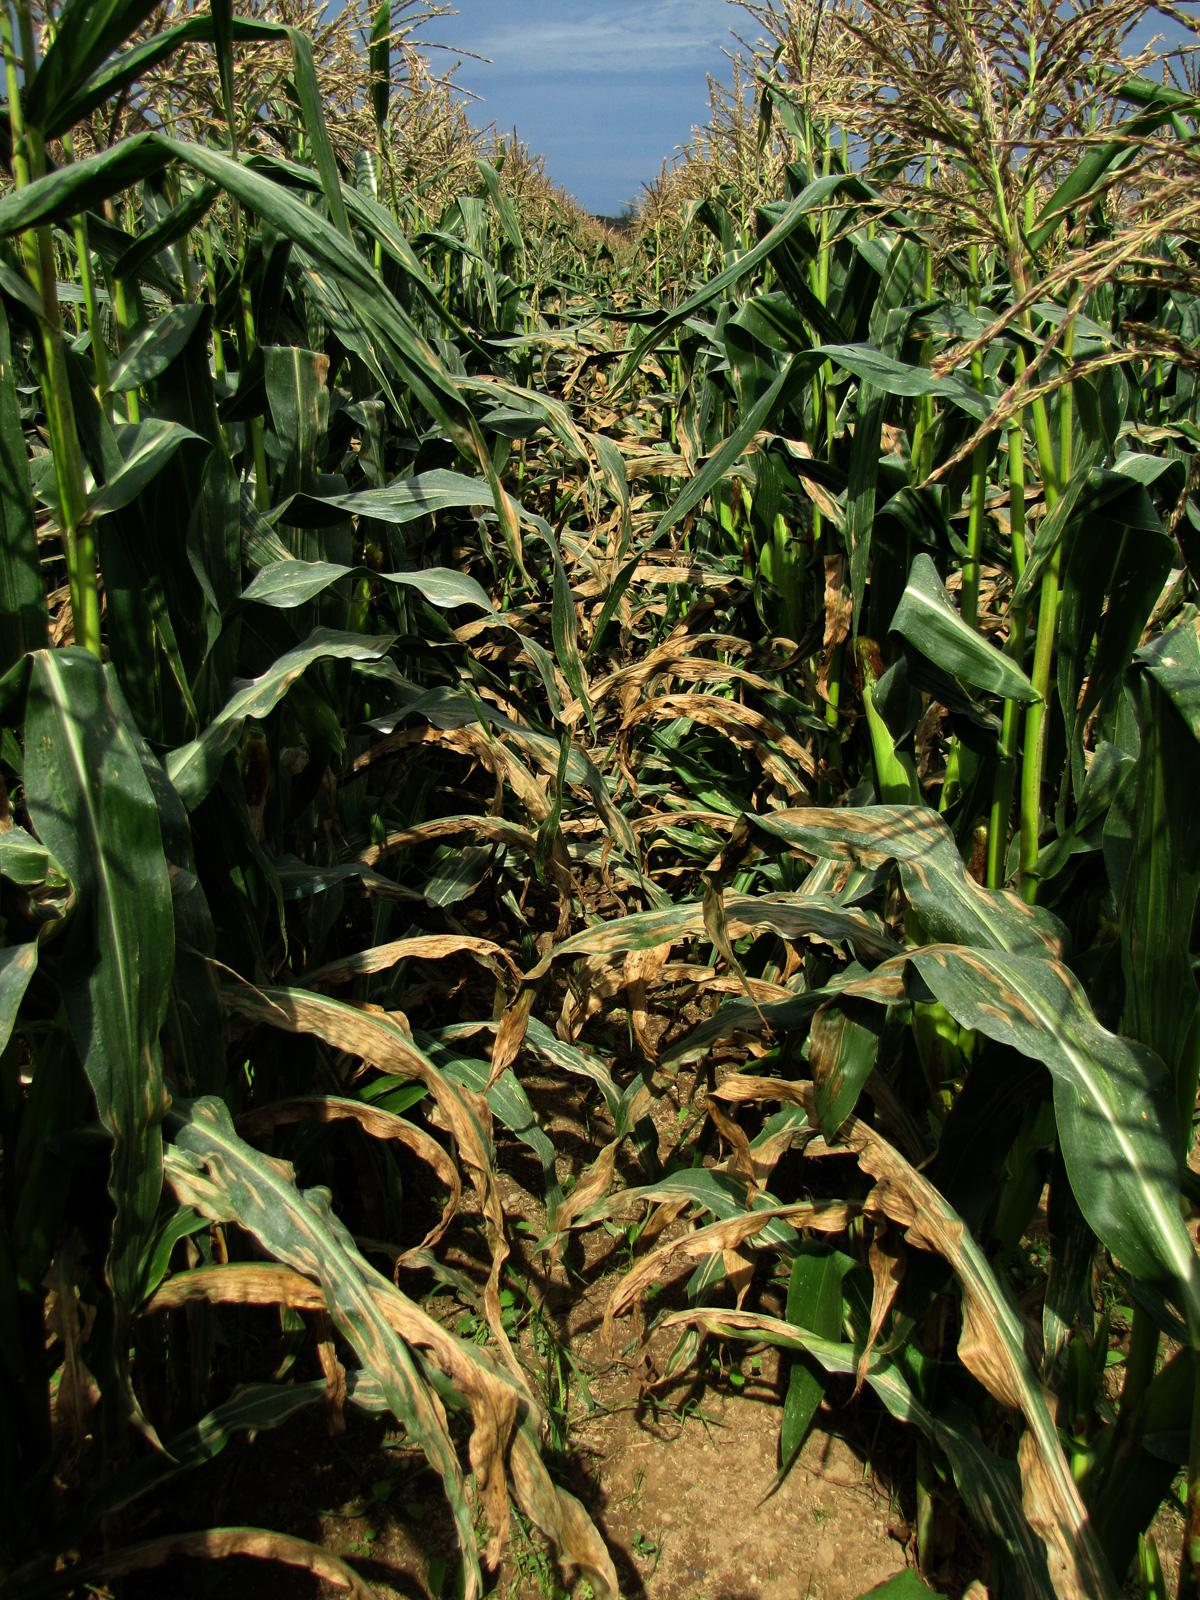Corn leaf blight: (737, 1073, 1111, 1600), (176, 1089, 522, 1577), (768, 923, 1200, 1237), (238, 979, 502, 1256), (579, 1207, 881, 1377)
